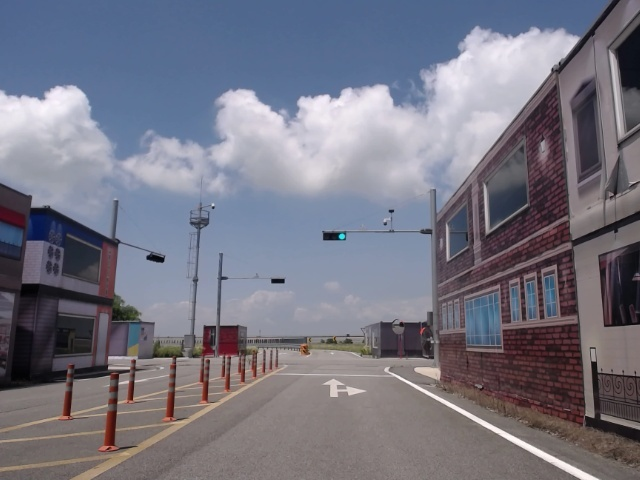green_3: (323, 232, 345, 240)
